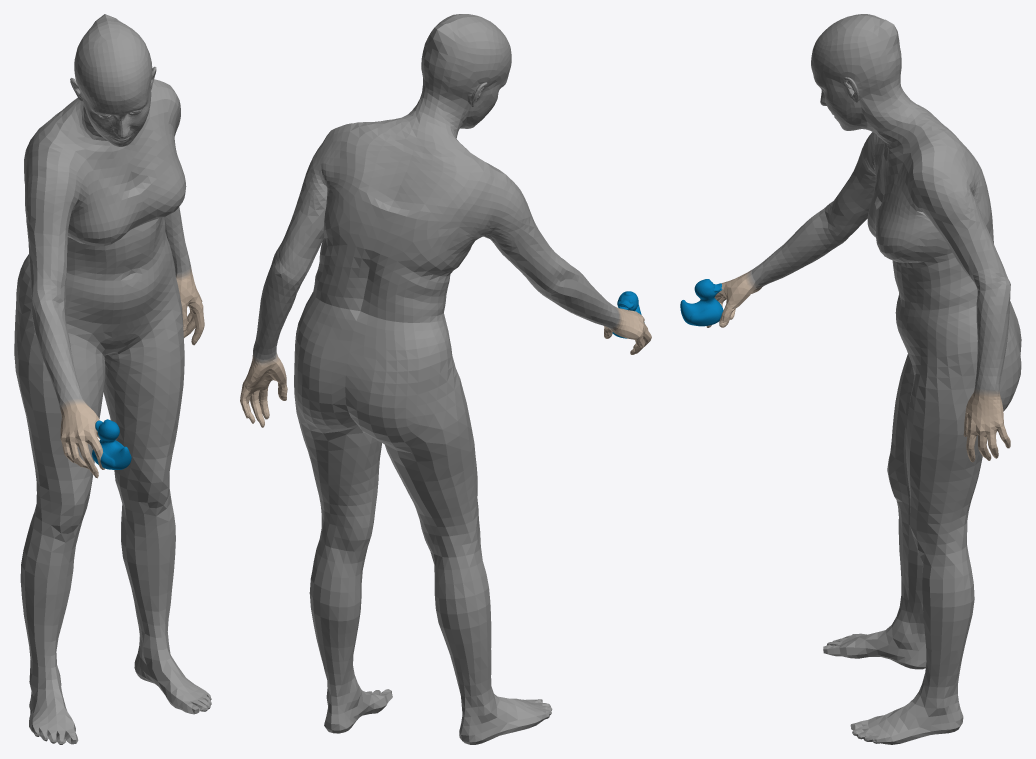
File: ood_deliver_duck_full.glb
The picture shows the model from 3 angles, left to right: view 1: azimuth 30°, elevation 25°; view 2: azimuth 150°, elevation 25°; view 3: azimuth 270°, elevation 25°; orthographic projection. The views are drawn at different scales.
Parts seen in each view (by area): view 1: ood_deliver_duck_full.obj; view 2: ood_deliver_duck_full.obj; view 3: ood_deliver_duck_full.obj.
Part boxes in pixels (bbox=[...]): ood_deliver_duck_full.obj: bbox=[14, 14, 211, 744]; ood_deliver_duck_full.obj: bbox=[240, 14, 651, 744]; ood_deliver_duck_full.obj: bbox=[680, 14, 1021, 744].
Bounding box in the file's own units: 0.6244 × 1.57 × 0.7141.
